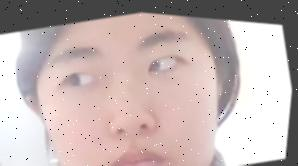eye: (66, 71, 81, 85), (150, 58, 162, 69)
iris: (59, 65, 99, 90), (146, 49, 186, 73)
